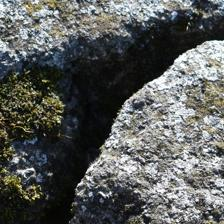Crack: (28, 19, 187, 197)
